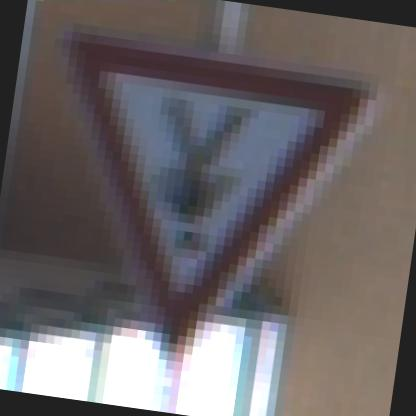crosswalk: (13, 12, 400, 397)
